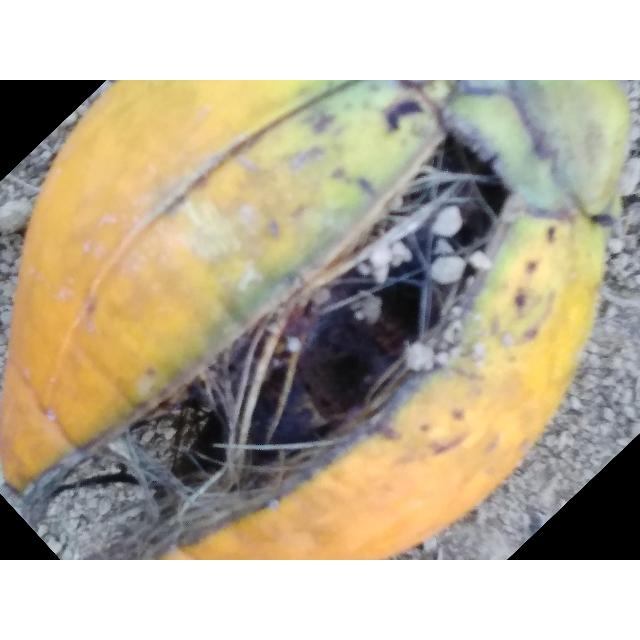damaged: (0, 80, 630, 560)
